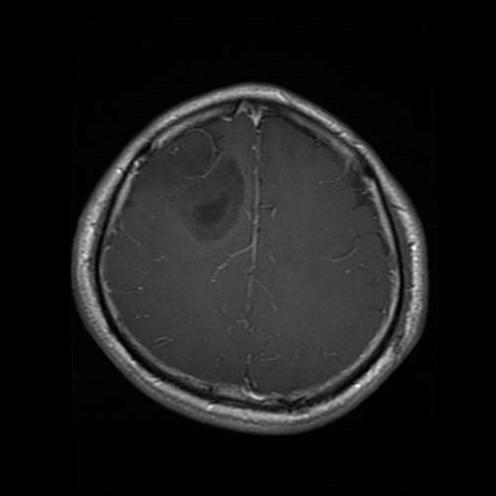Tumour-Glioma: (154, 132, 246, 241)
